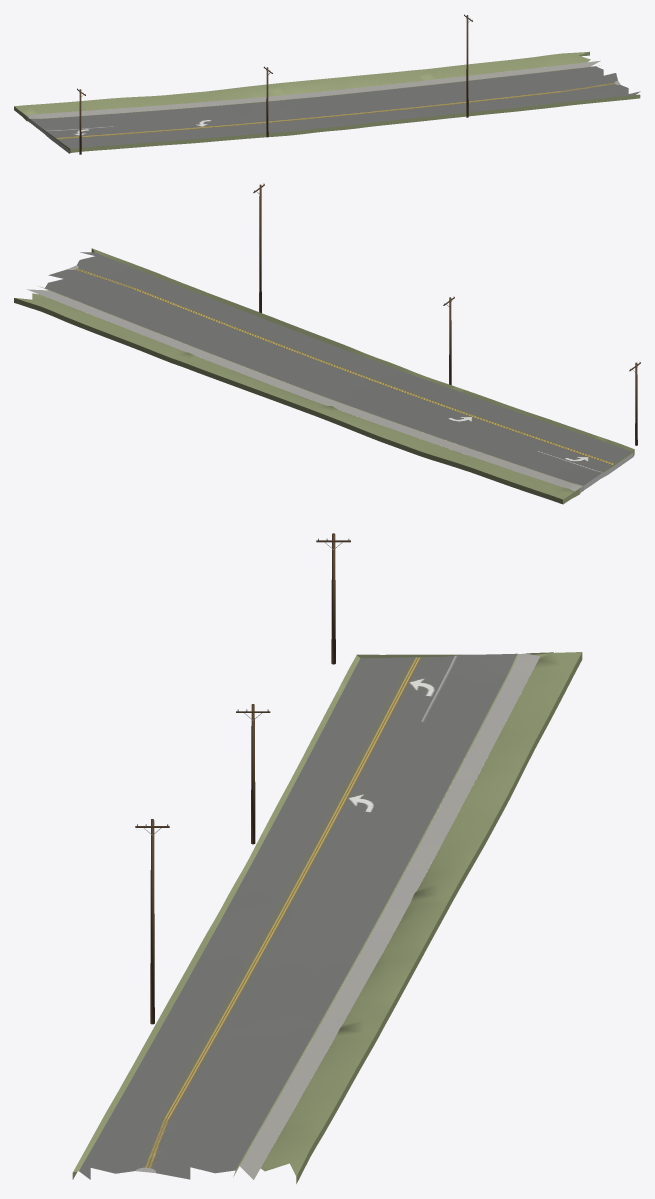
3 renders of one model, top to bottom at view 1: azimuth 30°, elevation 25°; view 2: azimuth 150°, elevation 25°; view 3: azimuth 270°, elevation 25°, orthographic. The views are drawn at different scales.
Visible parts, largest first — view 1: SW_ground_southwest_asphalt_-4_-2_UNVERIFIED, SW_ground_southwest_concrete_-4_-2, SW_Roads_Normal_Ave_pole_1_UNVERIFIED; view 2: SW_ground_southwest_asphalt_-4_-2_UNVERIFIED, SW_ground_southwest_concrete_-4_-2, SW_Roads_Normal_Ave_pole_1_UNVERIFIED; view 3: SW_ground_southwest_asphalt_-4_-2_UNVERIFIED, SW_ground_southwest_concrete_-4_-2, SW_Roads_Normal_Ave_pole_1_UNVERIFIED.
Part boxes in pixels (x1,y1,x2,y2): SW_ground_southwest_asphalt_-4_-2_UNVERIFIED: (14, 51, 640, 153); SW_ground_southwest_concrete_-4_-2: (26, 60, 620, 122); SW_Roads_Normal_Ave_pole_1_UNVERIFIED: (77, 14, 472, 154); SW_ground_southwest_asphalt_-4_-2_UNVERIFIED: (14, 248, 634, 504); SW_ground_southwest_concrete_-4_-2: (27, 265, 583, 493); SW_Roads_Normal_Ave_pole_1_UNVERIFIED: (253, 183, 640, 445); SW_ground_southwest_asphalt_-4_-2_UNVERIFIED: (72, 652, 582, 1183); SW_ground_southwest_concrete_-4_-2: (135, 653, 540, 1179); SW_Roads_Normal_Ave_pole_1_UNVERIFIED: (135, 533, 350, 1024).
Bounding box in the file's own units: 81.18 × 16.24 × 35.45.
Materials: 7 (1 with a texture image).
